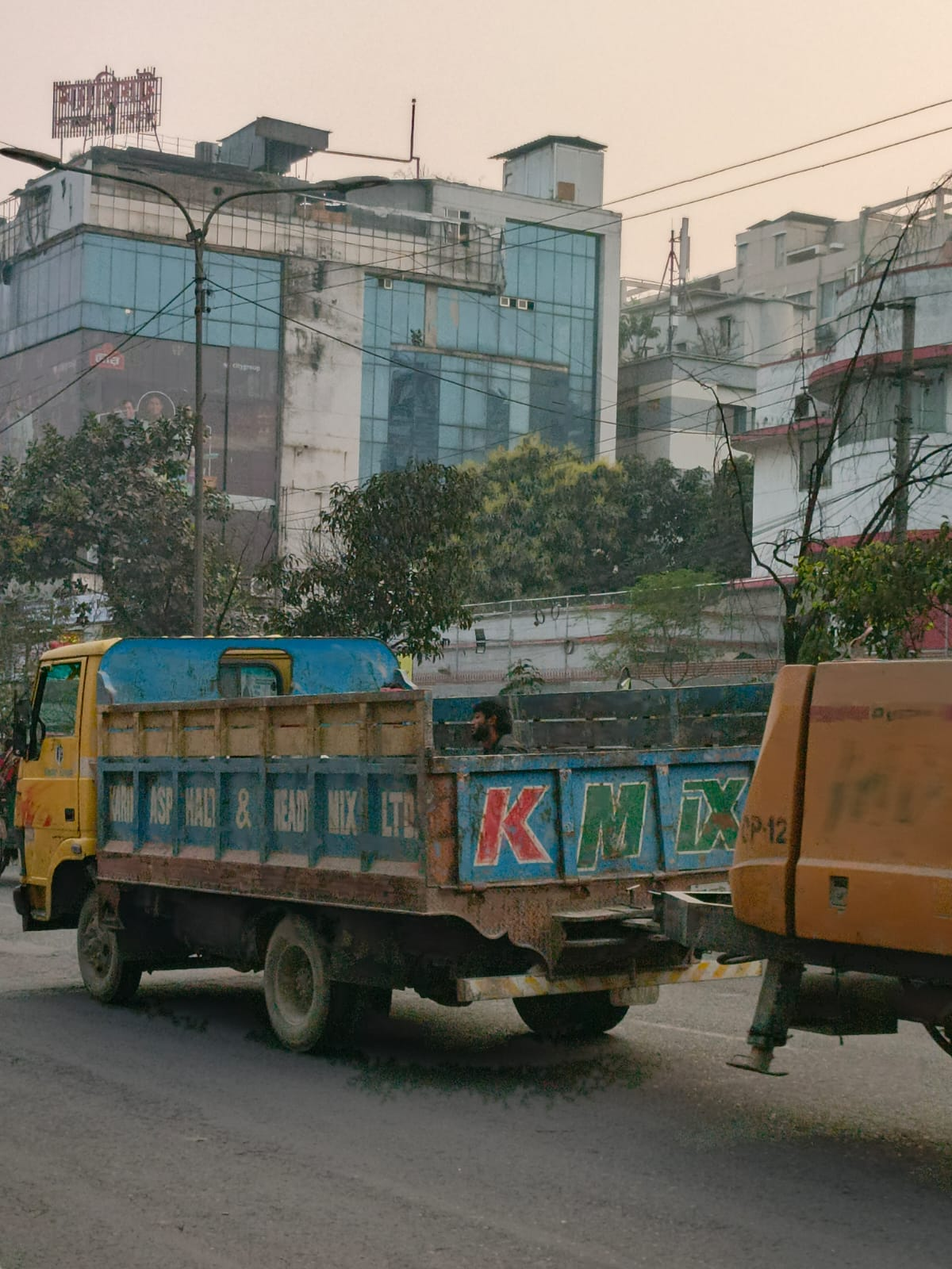Truck: (16, 540, 795, 1041)
